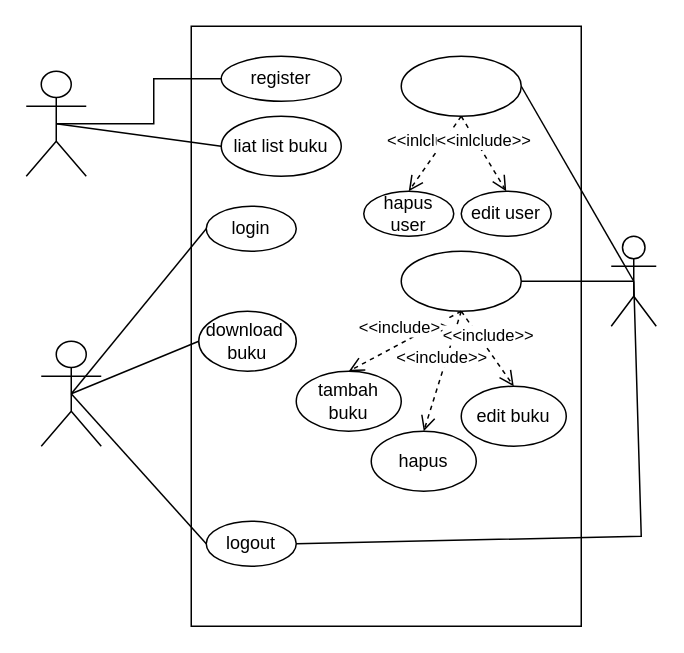
Image size: 684x653. Some labels were removed from this diagram. Here are the shapes that lost their labels. From the top down, the centre of each, then its label:
At [460,85]: "manage user".
At [55,123]: "guest".
At [460,280]: "manage buku".
At [633,280]: "admin".
At [70,393]: "user".
